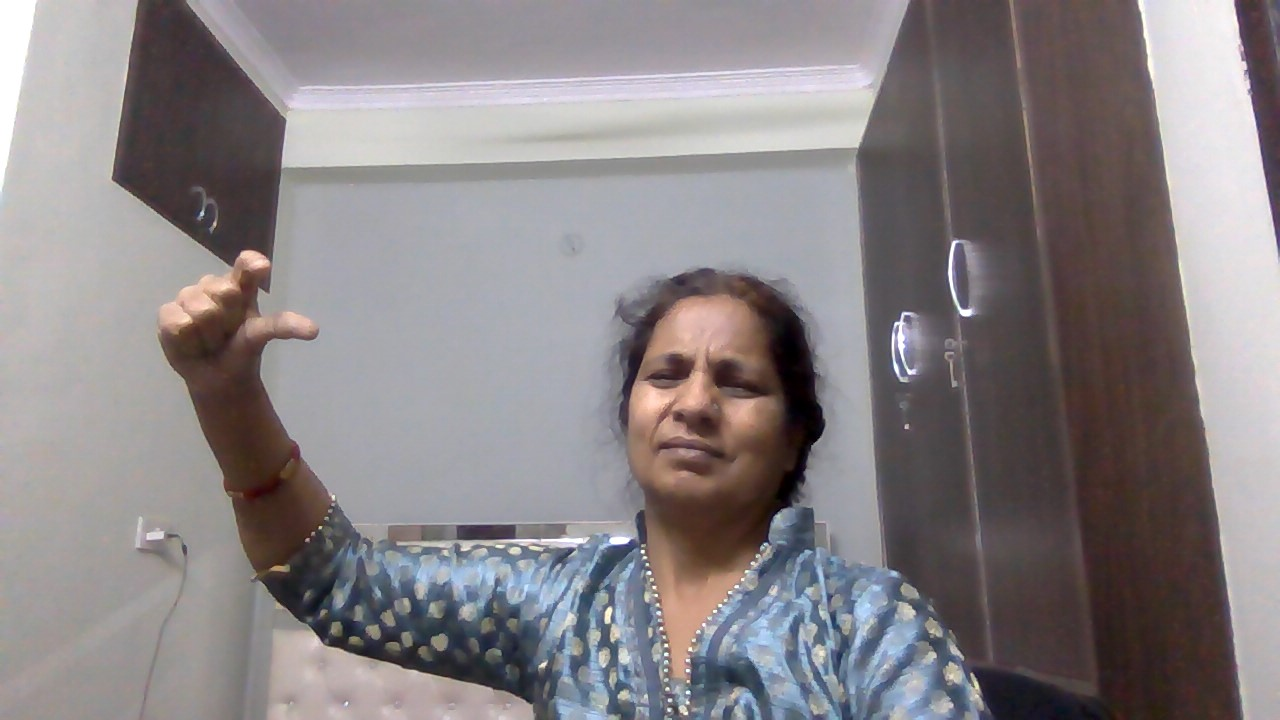Paste: (143, 243, 330, 410)
